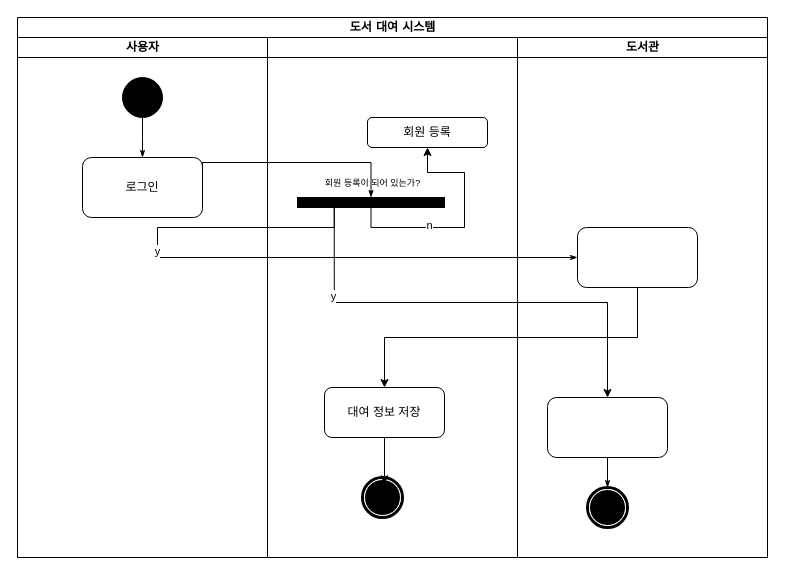
Image size: 785x575. Some labels were removed from this diagram. Each missing label, with the box of its shape:
도서 대여: (576, 226, 698, 288)
도서 반납: (546, 396, 668, 458)
시스템: (266, 36, 518, 558)
